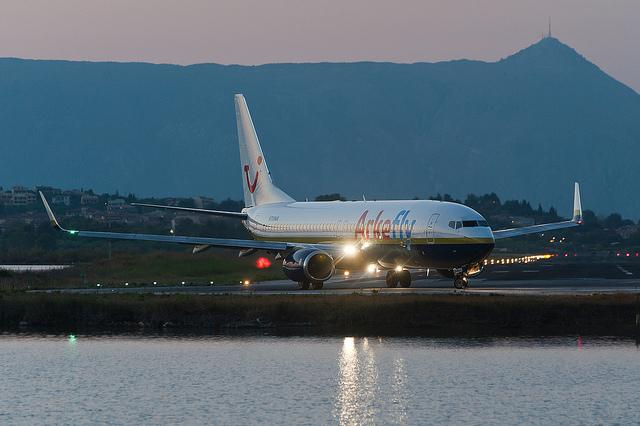airplane: (31, 92, 586, 295)
